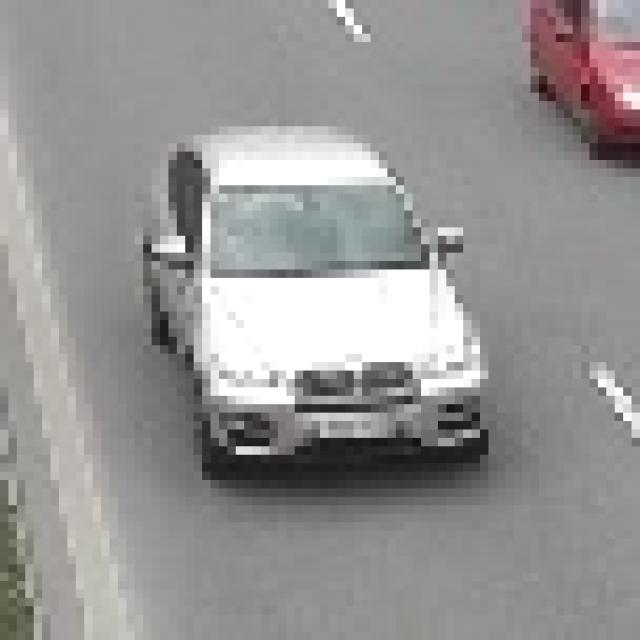SUV: (142, 126, 489, 480)
